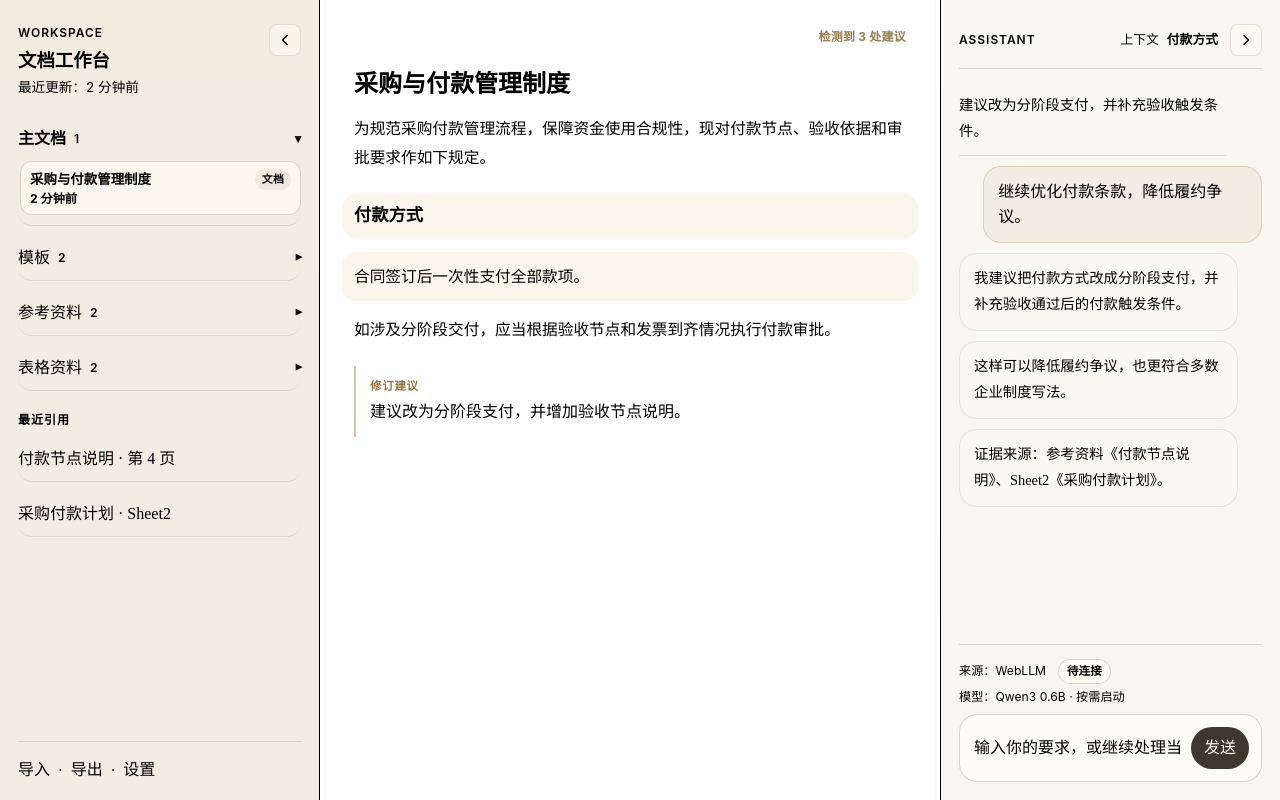
workspace shell › closes settings when clicking the backdrop
Click the button "设置" at (139, 770), box [123,758,155,782]
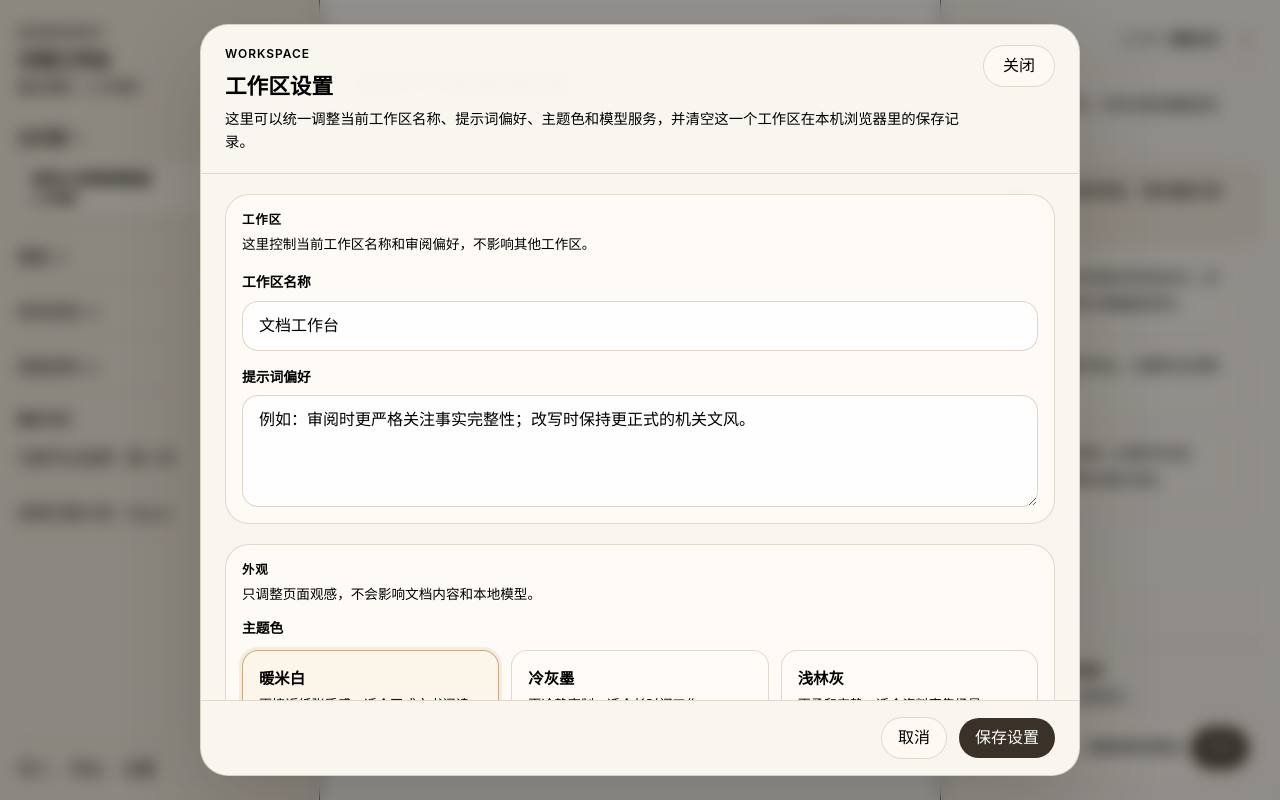
Check: the heading "工作区设置" is shown, box [225,75,333,99]
Click the element that starts with "Workspace" at (77, 400), box [0,0,1279,799]
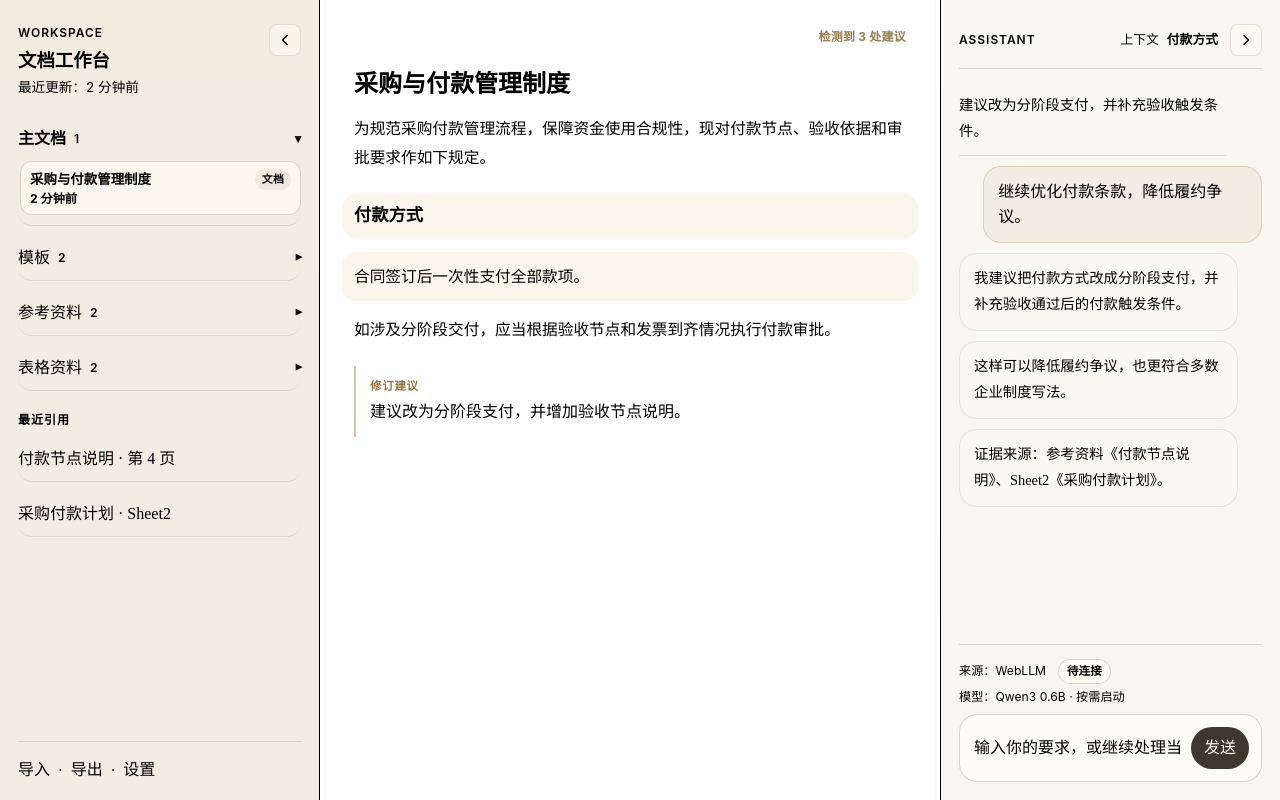
Check: the heading "工作区设置" is gone
